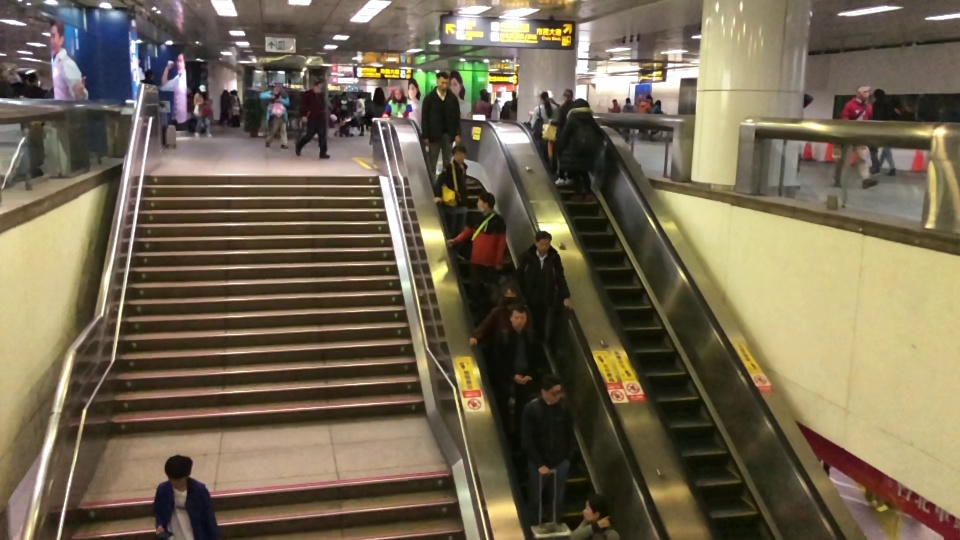person_head: (159, 451, 194, 492), (538, 374, 570, 407), (582, 492, 609, 523), (498, 278, 522, 303), (507, 307, 530, 333), (475, 190, 497, 215), (532, 231, 553, 254), (434, 69, 451, 90), (876, 87, 890, 109), (853, 84, 870, 102), (309, 77, 325, 95), (440, 188, 455, 207), (561, 88, 576, 107), (572, 97, 591, 112), (475, 87, 490, 104), (451, 146, 465, 163), (536, 90, 550, 105), (268, 82, 282, 96), (390, 88, 405, 100), (624, 94, 634, 109), (195, 83, 207, 95), (654, 96, 663, 111), (609, 98, 620, 110), (643, 92, 652, 104), (338, 92, 347, 101), (356, 92, 364, 100)
person_vbox: (502, 373, 578, 529), (441, 190, 505, 315), (519, 229, 578, 359), (143, 452, 224, 540), (483, 307, 545, 421), (464, 278, 526, 369), (830, 83, 881, 191), (564, 96, 612, 196), (421, 67, 462, 184), (294, 76, 332, 161), (548, 86, 578, 187), (564, 492, 623, 540), (870, 87, 899, 177), (256, 80, 290, 150), (432, 146, 470, 205), (432, 187, 467, 240), (191, 82, 214, 138), (526, 89, 556, 130), (382, 87, 412, 122), (619, 93, 639, 144), (336, 91, 356, 140), (634, 90, 654, 137), (469, 86, 495, 122), (353, 90, 369, 136), (601, 95, 622, 129), (650, 94, 663, 138)
